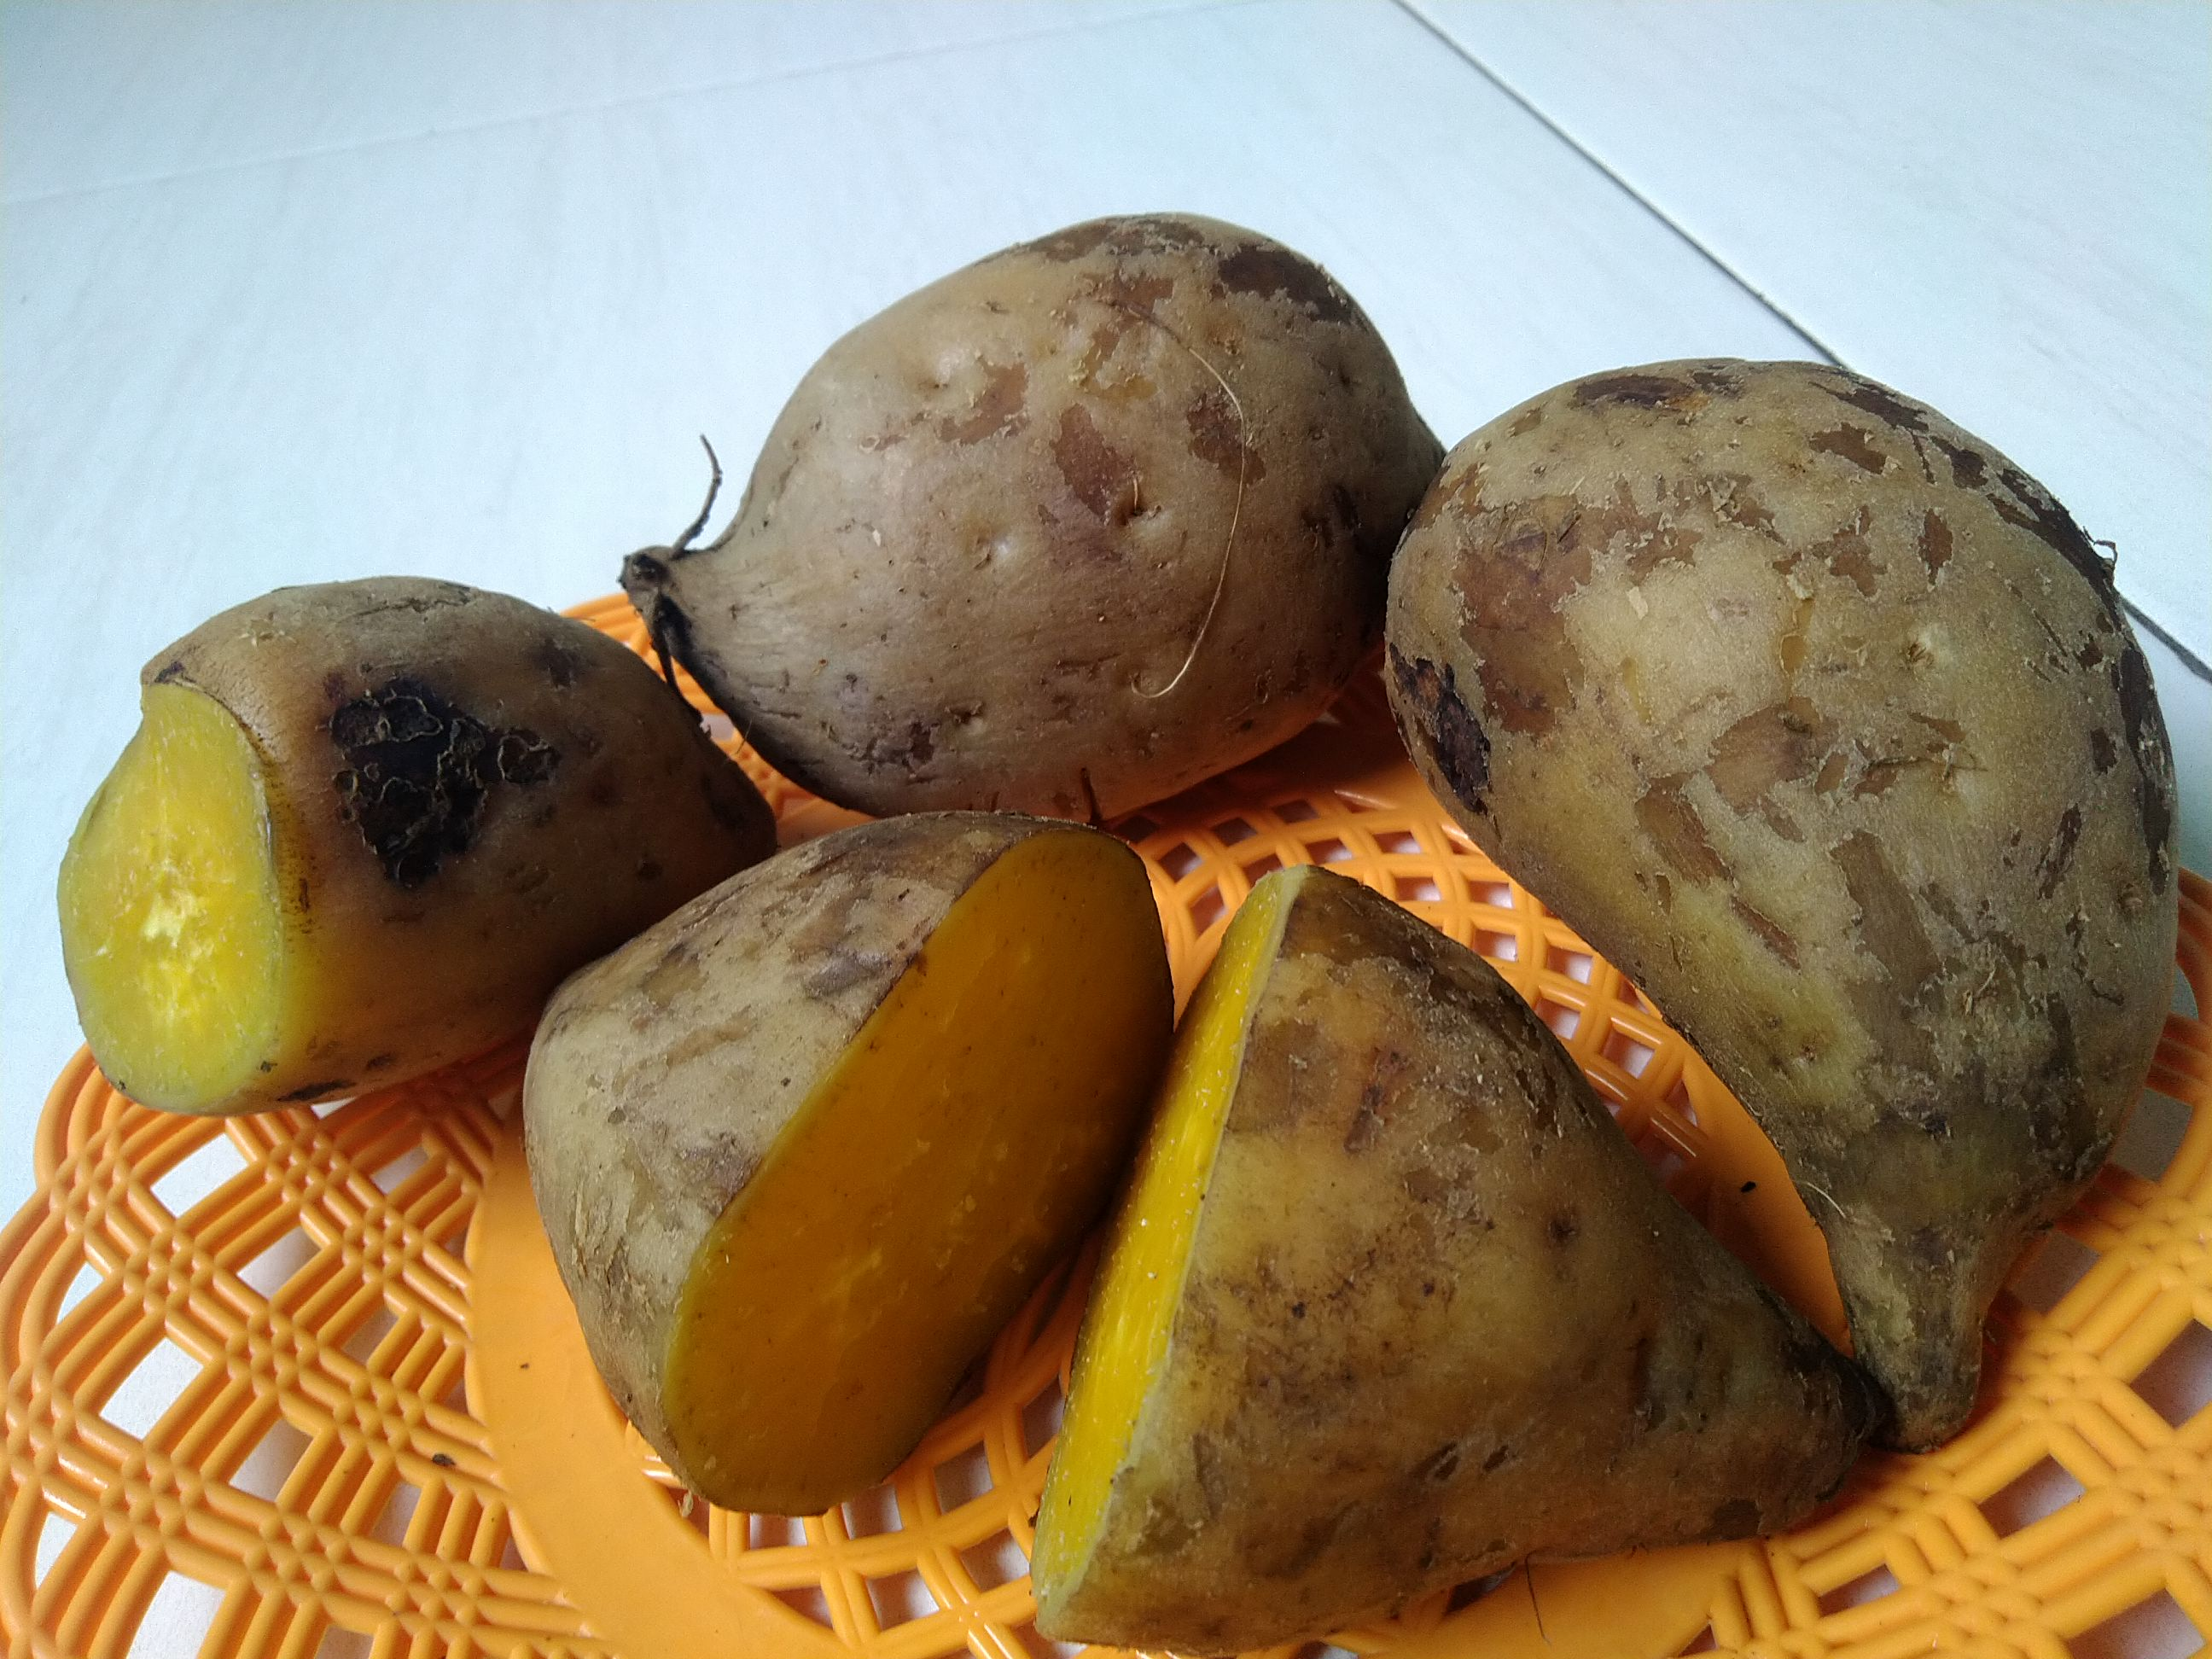ubi kuning: (47, 186, 2202, 1629), (1388, 335, 2191, 1445), (1029, 857, 1871, 1652), (615, 199, 1440, 828), (509, 784, 1170, 1537), (38, 566, 787, 1127)
